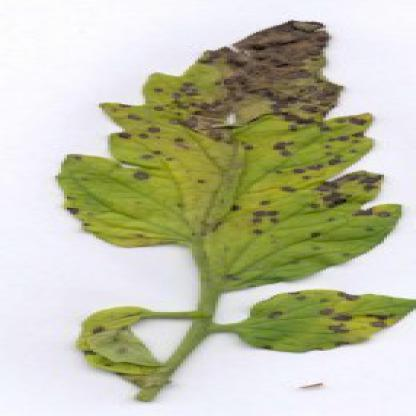Tomato Septoria leaf spot: (32, 12, 404, 287), (224, 275, 407, 362)
